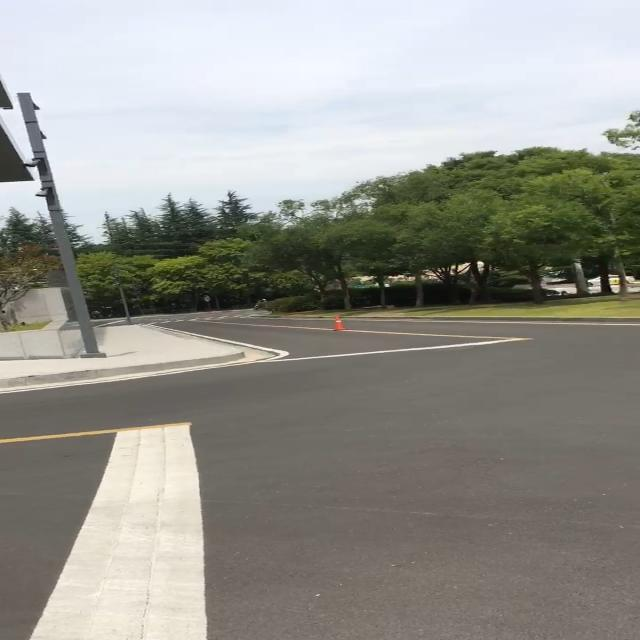obstacle: (12, 90, 108, 362), (326, 312, 350, 331)
road: (0, 315, 640, 640)
sidewalk: (0, 322, 255, 392)
